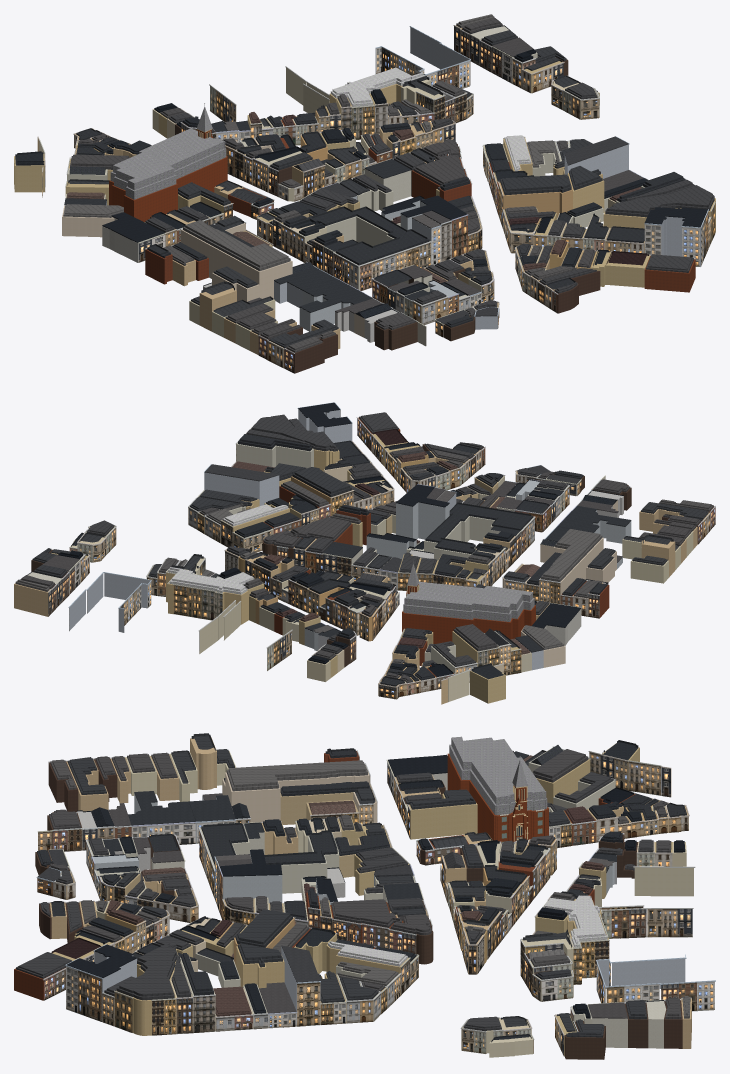
3 renders of one model, top to bottom at view 1: azimuth 30°, elevation 25°; view 2: azimuth 150°, elevation 25°; view 3: azimuth 270°, elevation 25°, orthographic. The views are drawn at different scales.
Visible parts, largest first — view 1: bldg_232926614_roof_b, bldg_232926614, bldg_498069159_roof_b, bldg_498078019, bldg_498078019_roof_b, bldg_497841876_roof_b, bldg_498069159_facade1, bldg_498078026_roof, bldg_497841002, bldg_498069159, bldg_232926614_roof_a, bldg_475455109_roof_b (+37 smaller); view 2: bldg_232926614_roof_b, bldg_232926614, bldg_498069159_roof_b, bldg_498069151, bldg_497841013, bldg_497841017, bldg_475455109_facade1, bldg_498069159, bldg_498078019_roof_b, bldg_232926614_roof_a, bldg_497841876_roof_b, bldg_475455109_roof_b (+25 smaller); view 3: bldg_232926614_roof_b, bldg_494692191, bldg_498078019, bldg_498078019_roof_b, bldg_498069159_roof_b, bldg_6990484_facade6, bldg_179371956_facade12, bldg_232926614, bldg_497841876_roof_b, bldg_497841879_facade2, bldg_498069159, bldg_498078026_roof (+72 smaller).
Part boxes in pixels (<box>): bldg_232926614_roof_b: <box>113,128,225,190</box>; bldg_232926614: <box>109,155,227,221</box>; bldg_498069159_roof_b: <box>312,206,427,262</box>; bldg_498078019: <box>181,229,292,298</box>; bldg_498078019_roof_b: <box>185,220,288,267</box>; bldg_497841876_roof_b: <box>607,185,712,213</box>; bldg_498069159_facade1: <box>358,241,432,290</box>; bldg_498078026_roof: <box>299,279,372,312</box>; bldg_497841002: <box>499,178,572,217</box>; bldg_498069159: <box>325,216,431,289</box>; bldg_232926614_roof_a: <box>110,147,226,199</box>; bldg_475455109_roof_b: <box>332,67,423,103</box>; bldg_232926614_roof_b: <box>404,581,532,613</box>; bldg_232926614: <box>402,605,535,643</box>; bldg_498069159_roof_b: <box>427,502,531,551</box>; bldg_498069151: <box>396,502,449,539</box>; bldg_497841013: <box>204,472,279,505</box>; bldg_497841017: <box>236,443,313,468</box>; bldg_475455109_facade1: <box>173,584,216,620</box>; bldg_498069159: <box>424,516,533,560</box>; bldg_498078019_roof_b: <box>542,529,600,578</box>; bldg_232926614_roof_a: <box>403,598,534,621</box>; bldg_497841876_roof_b: <box>251,414,336,448</box>; bldg_475455109_roof_b: <box>169,567,253,591</box>; bldg_232926614_roof_b: <box>451,736,546,805</box>; bldg_494692191: <box>409,793,477,839</box>; bldg_498078019: <box>225,766,369,822</box>; bldg_498078019_roof_b: <box>228,760,365,787</box>; bldg_498069159_roof_b: <box>203,823,335,862</box>; bldg_6990484_facade6: <box>633,866,695,896</box>; bldg_179371956_facade12: <box>611,957,686,988</box>; bldg_232926614: <box>447,753,548,841</box>; bldg_497841876_roof_b: <box>119,943,176,996</box>; bldg_497841879_facade2: <box>65,965,102,1021</box>; bldg_498069159: <box>200,826,339,893</box>; bldg_498078026_roof: <box>128,791,195,825</box>.
Bounding box in the file's own units: 275 × 41.67 × 278.
127 materials, 57 textured.
